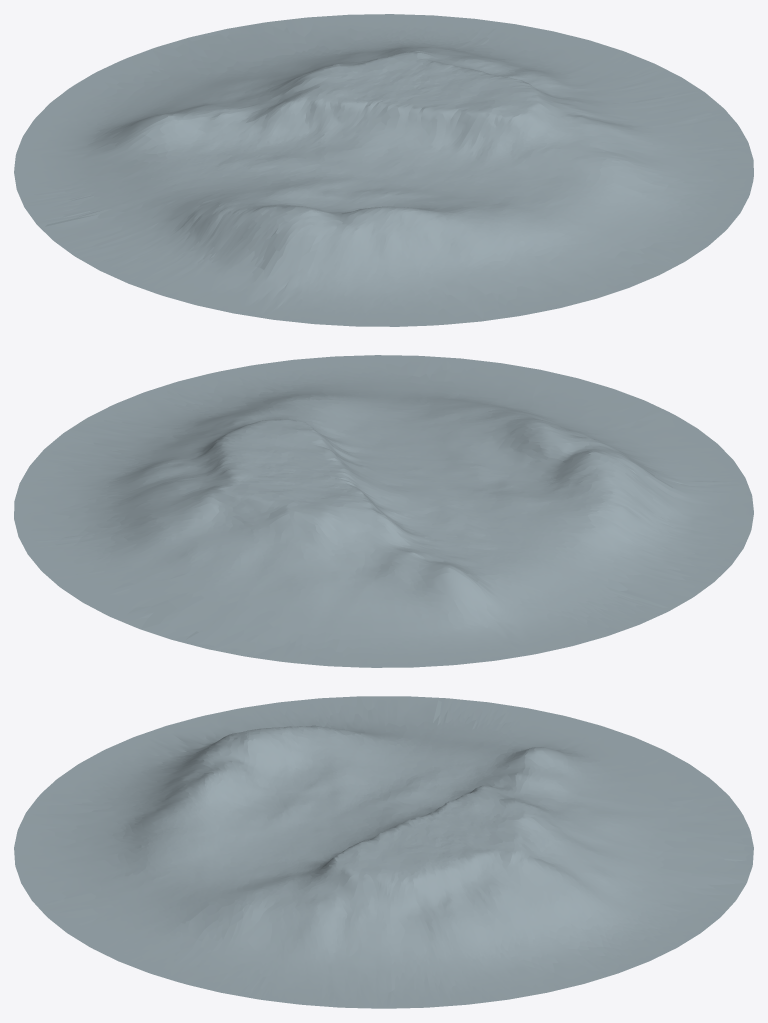
File: island_map_C_circle_deep.fbx
3 views of the same model, one above another, from view 1: azimuth 30°, elevation 25°; view 2: azimuth 150°, elevation 25°; view 3: azimuth 270°, elevation 25° (orthographic).
Parts seen in each view (by area): view 1: island_map_C_circle_deep; view 2: island_map_C_circle_deep; view 3: island_map_C_circle_deep.
Part boxes in pixels (x1,y1,x2,y2): island_map_C_circle_deep: [14, 14, 753, 326]; island_map_C_circle_deep: [14, 355, 753, 667]; island_map_C_circle_deep: [14, 696, 753, 1008].
Bounding box in the file's own units: 27278 × 1959 × 27289.
